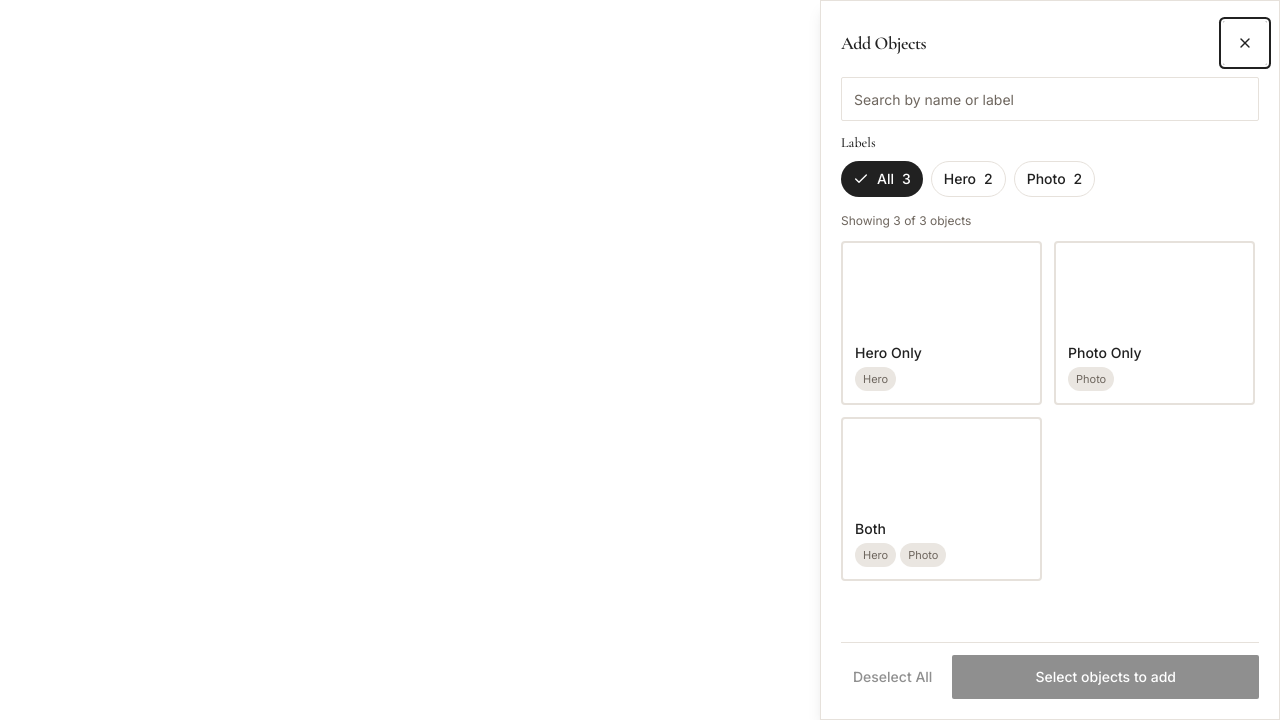
Test: offers Any/All on the main view for two selected chips even with only two labels
Expected: the button "Both Hero Photo" is shown, [841, 417, 1042, 581]
Click the button "Hero 2".
click(968, 179)  # box [931, 161, 1006, 197]
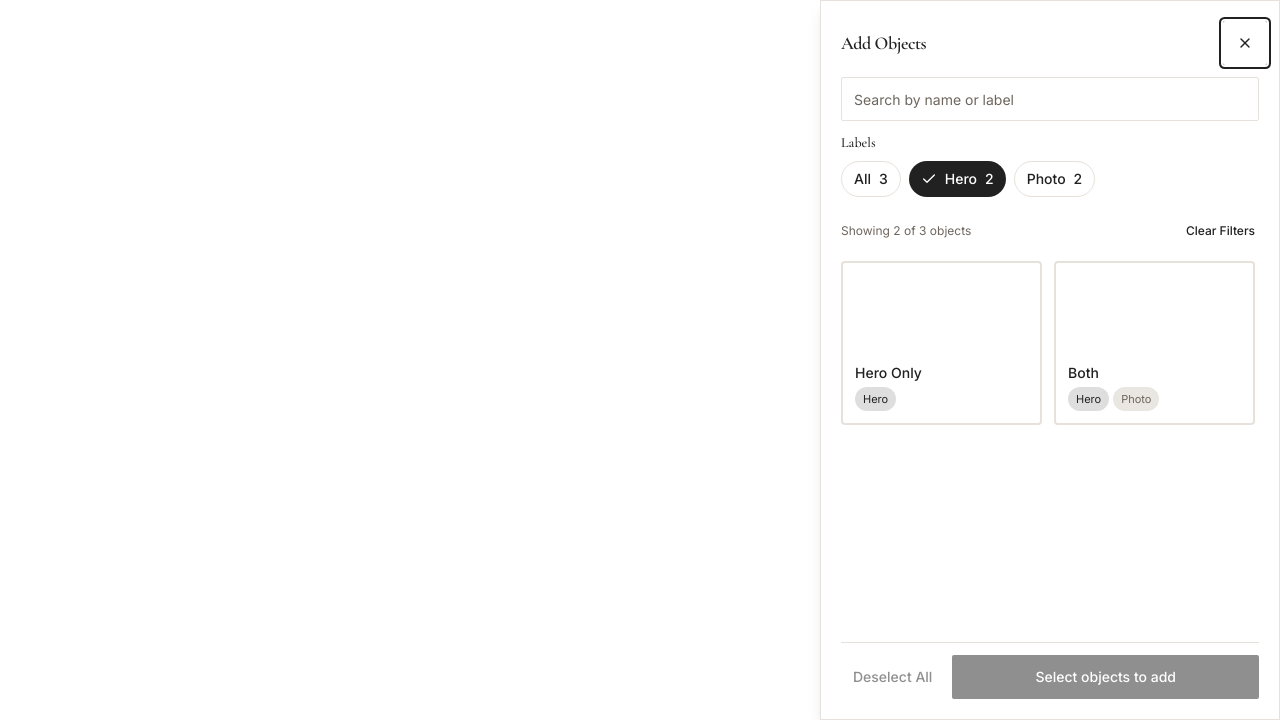
Expected: the element "Show objects with" is not shown
Click the button "Photo 2".
click(1054, 179)  # box [1014, 161, 1095, 197]
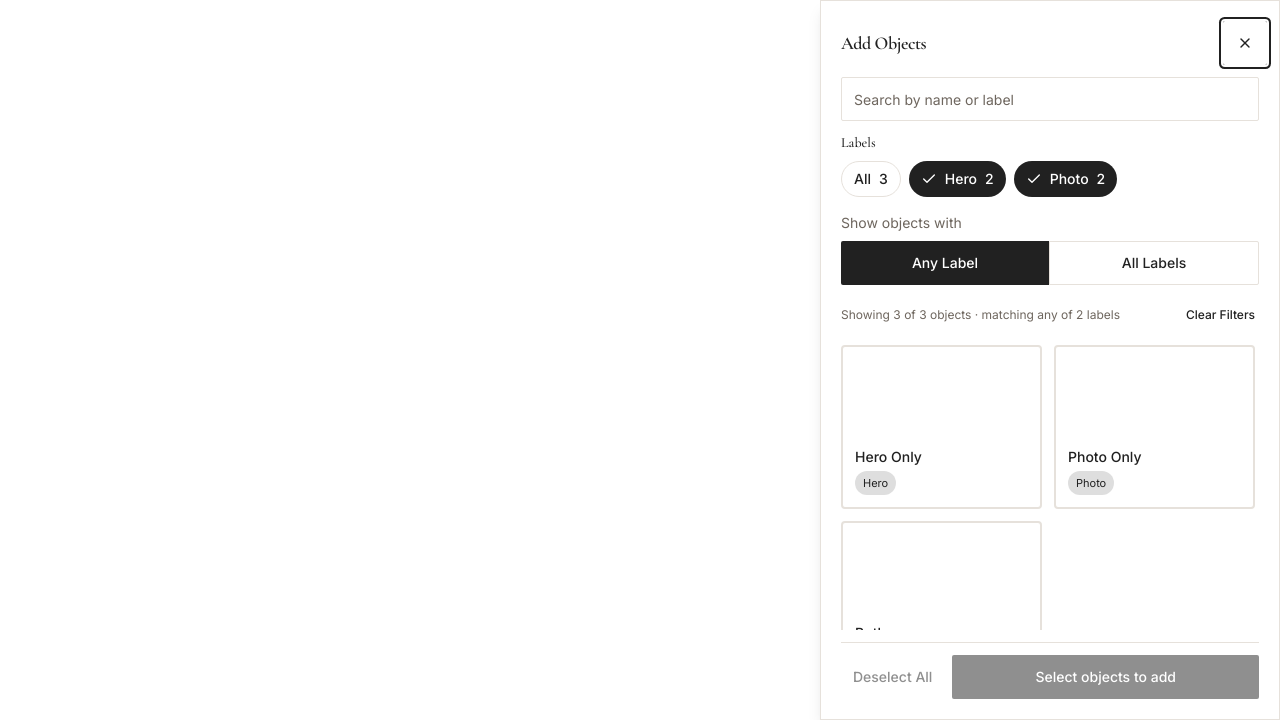
Expected: the button "Hero Only Hero" is shown, [841, 345, 1042, 509]
Result: the button "Photo Only Photo" is shown at [1054, 345, 1255, 509]
Click the button "All Labels".
click(1154, 263)  # box [1049, 241, 1259, 285]
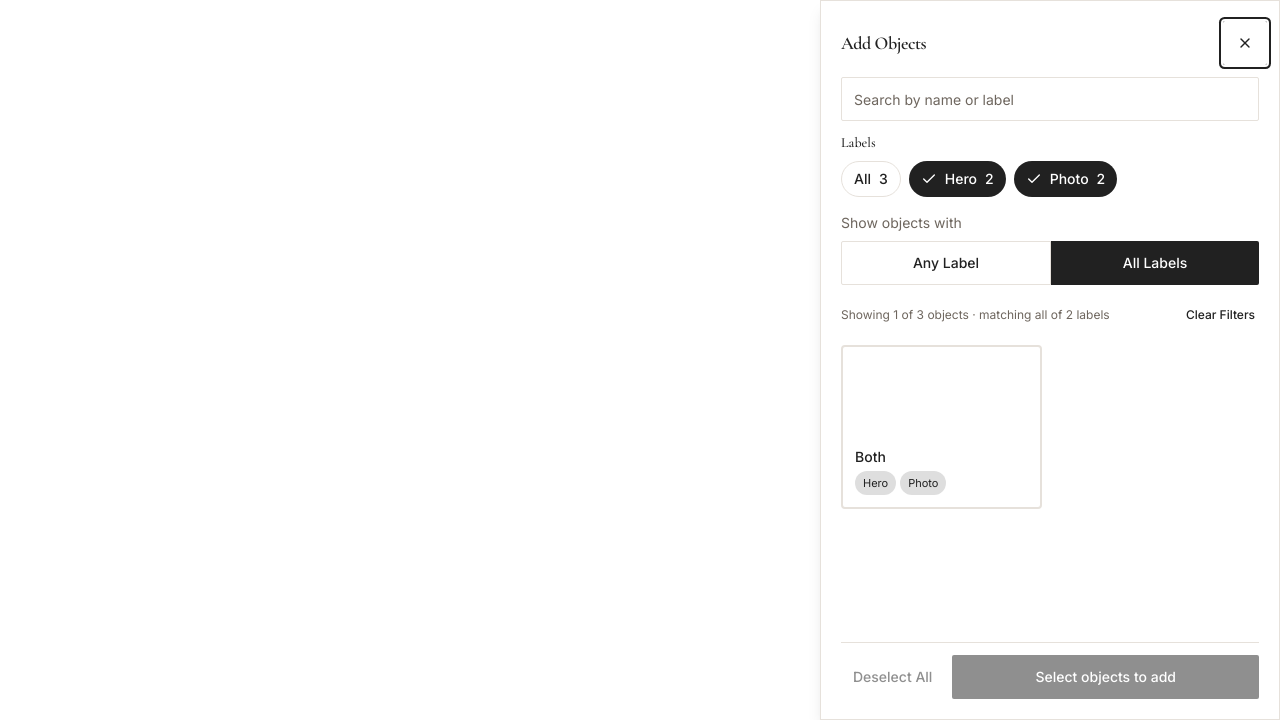
Expected: the button "Both Hero Photo" is shown, [841, 345, 1042, 509]
Result: the button "Hero Only" is gone
Result: the button "Photo Only" is gone
Click the button "Photo 2".
click(1066, 179)  # box [1014, 161, 1117, 197]
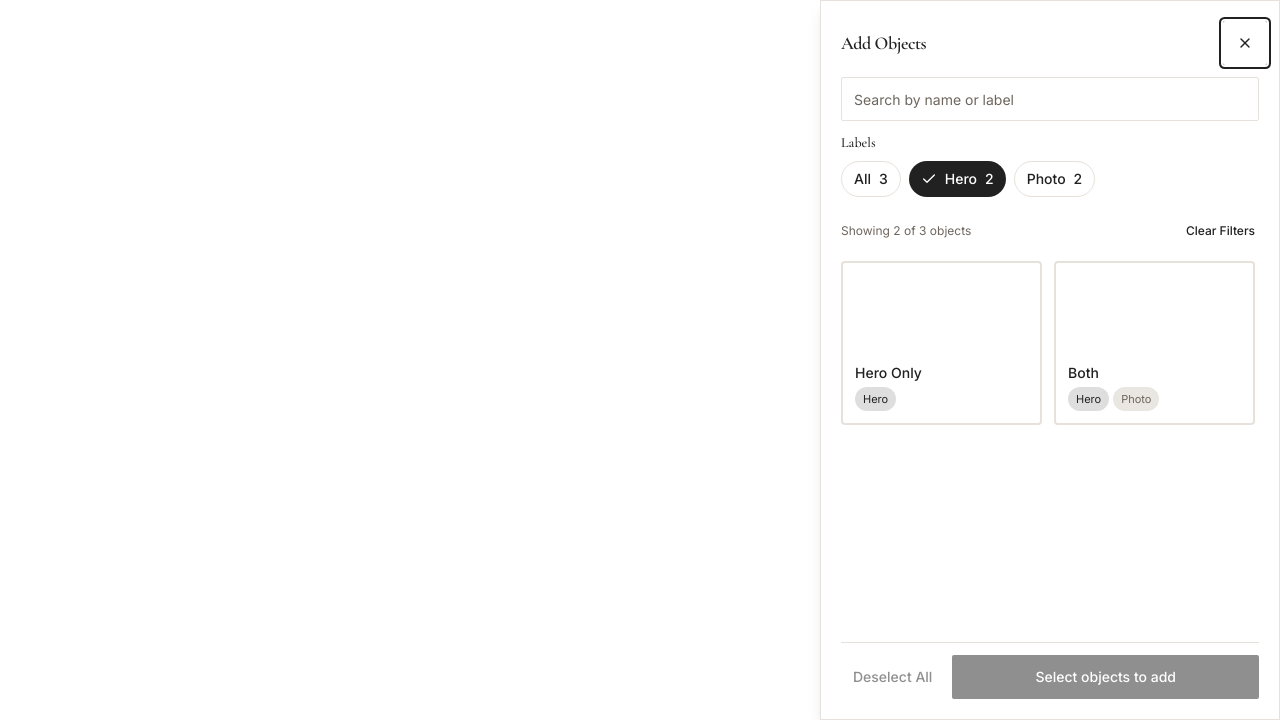
Result: the text "Show objects with" is gone
Click the button "All 3".
click(871, 179)  # box [841, 161, 901, 197]
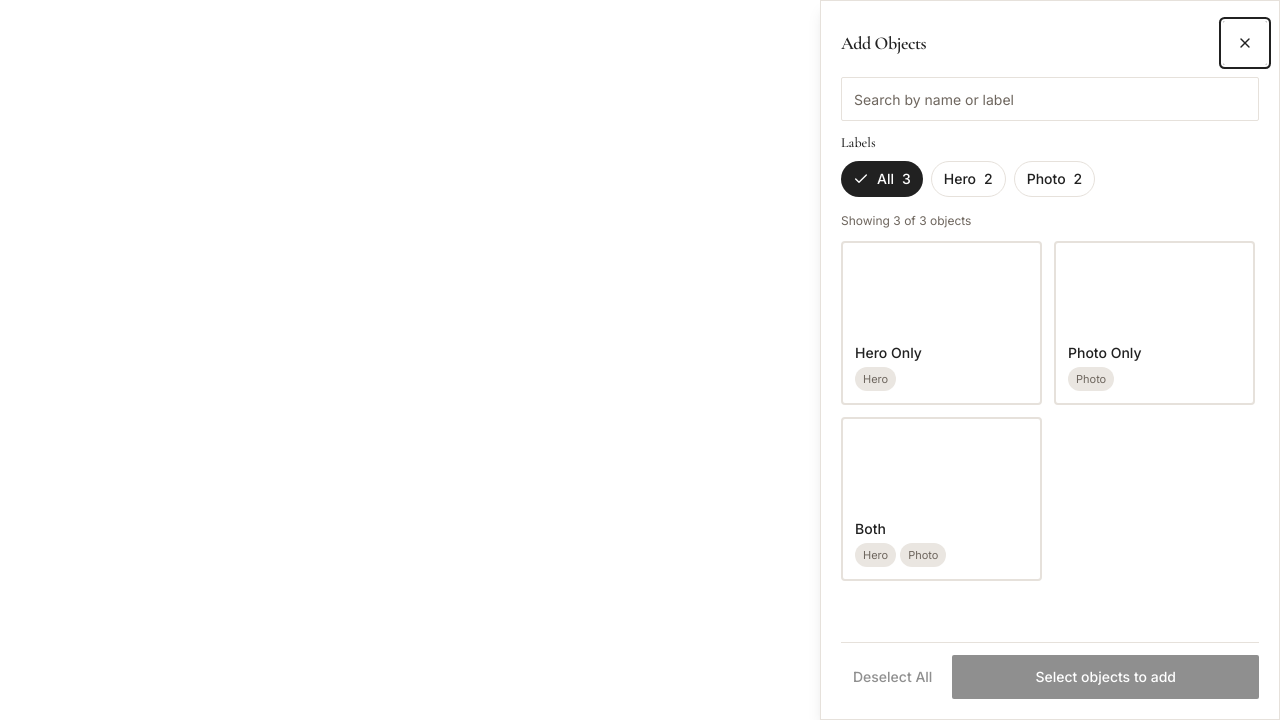
Result: the button "Hero 2" is not pressed at [931, 161, 1006, 197]
Result: the button "Photo 2" is not pressed at [1014, 161, 1095, 197]
